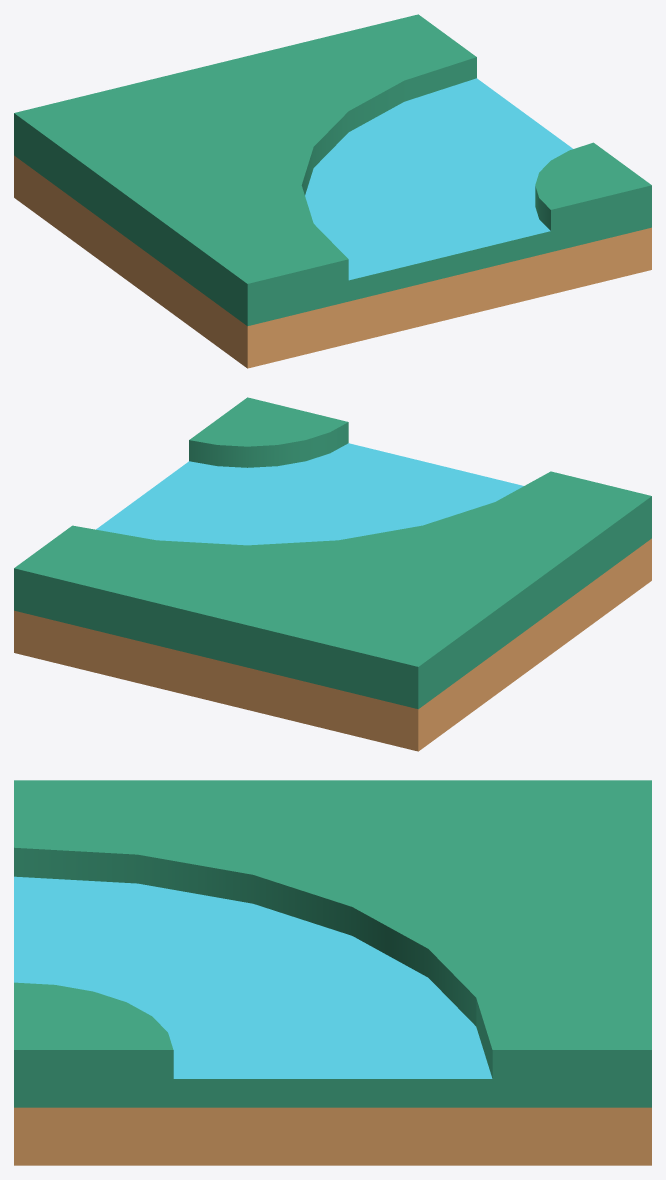
File: TileRiverCurveGrass.fbx
3 views of the same model, one above another, from view 1: azimuth 30°, elevation 25°; view 2: azimuth 150°, elevation 25°; view 3: azimuth 270°, elevation 25° (orthographic). The views are drawn at different scales.
Parts seen in each view (by area): view 1: tile_riverCorner; view 2: tile_riverCorner; view 3: tile_riverCorner.
Part boxes in pixels (left/top/right/bottom): tile_riverCorner: left=14, top=14, right=651, bottom=368; tile_riverCorner: left=14, top=397, right=651, bottom=751; tile_riverCorner: left=14, top=780, right=651, bottom=1165.
Bounding box in the file's own units: 39.37 × 7.87 × 39.37.
